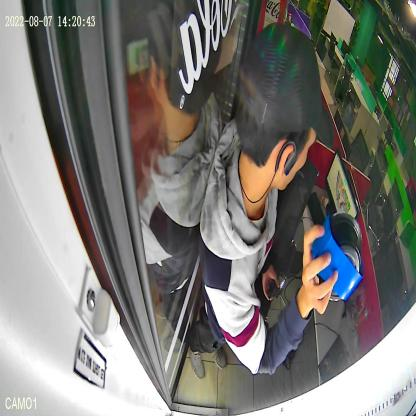blue: (311, 212, 364, 302)
